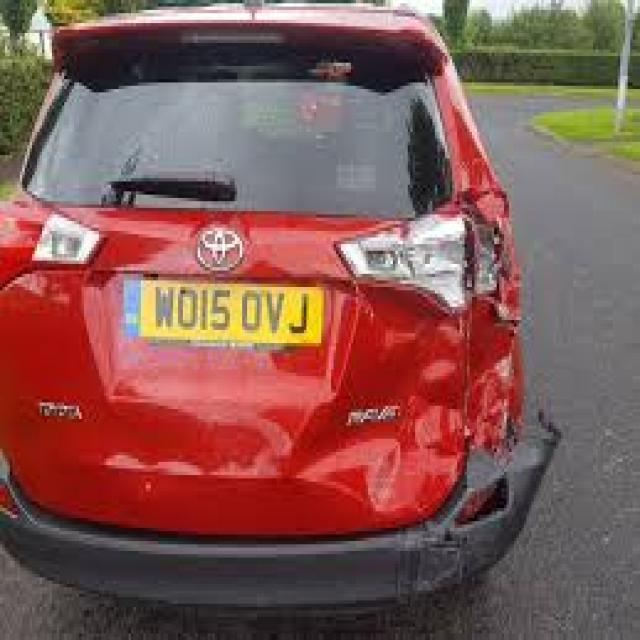moderate: (352, 202, 556, 544)
